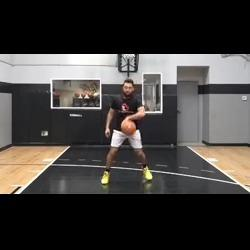BasketBall: (119, 115, 137, 136)
